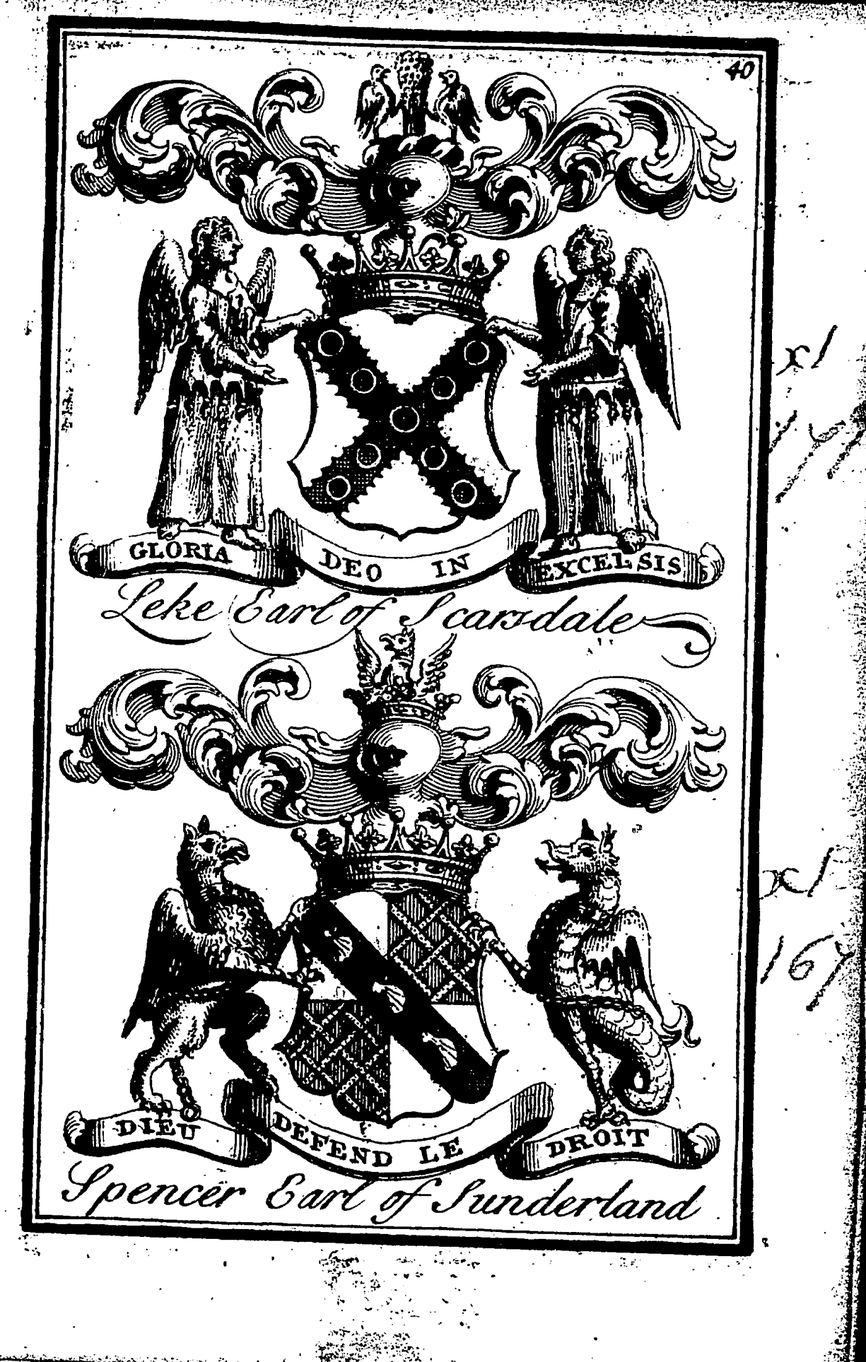coat_of_arms: (69, 37, 713, 645), (79, 636, 722, 1221)
